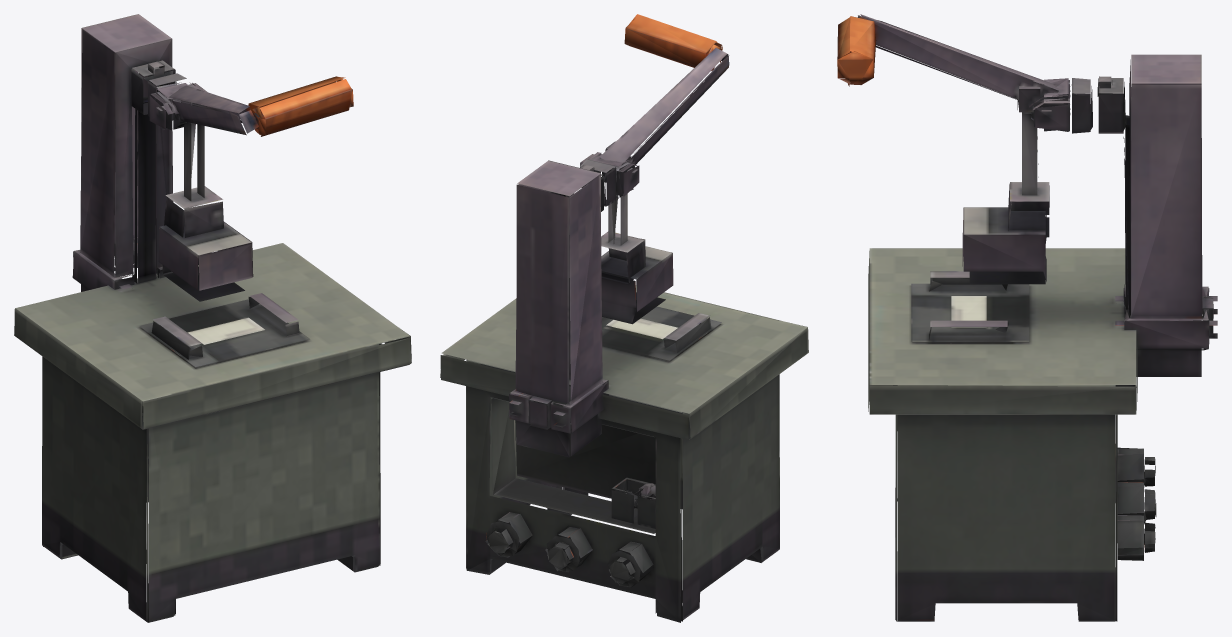
File: PRP_STAMP_STATION.fbx
The picture shows the model from 3 angles, left to right: view 1: azimuth 30°, elevation 25°; view 2: azimuth 150°, elevation 25°; view 3: azimuth 270°, elevation 25°; orthographic projection. The views are drawn at different scales.
Parts seen in each view (by area): view 1: PRP_STAMP_STATION_Body.001, PRP_STAMP_STATION_Plunger; view 2: PRP_STAMP_STATION_Body.001, PRP_STAMP_STATION_Plunger; view 3: PRP_STAMP_STATION_Body.001, PRP_STAMP_STATION_Plunger.
Part boxes in pixels (left/top/right/bottom): PRP_STAMP_STATION_Body.001: left=14, top=14, right=411, bottom=622; PRP_STAMP_STATION_Plunger: left=131, top=69, right=253, bottom=290; PRP_STAMP_STATION_Body.001: left=440, top=14, right=808, bottom=622; PRP_STAMP_STATION_Plunger: left=566, top=153, right=673, bottom=323; PRP_STAMP_STATION_Body.001: left=837, top=14, right=1217, bottom=621; PRP_STAMP_STATION_Plunger: left=962, top=84, right=1123, bottom=281.
Bounding box in the file's own units: 49.11 × 90.41 × 57.35.
1 material, 1 textured.
